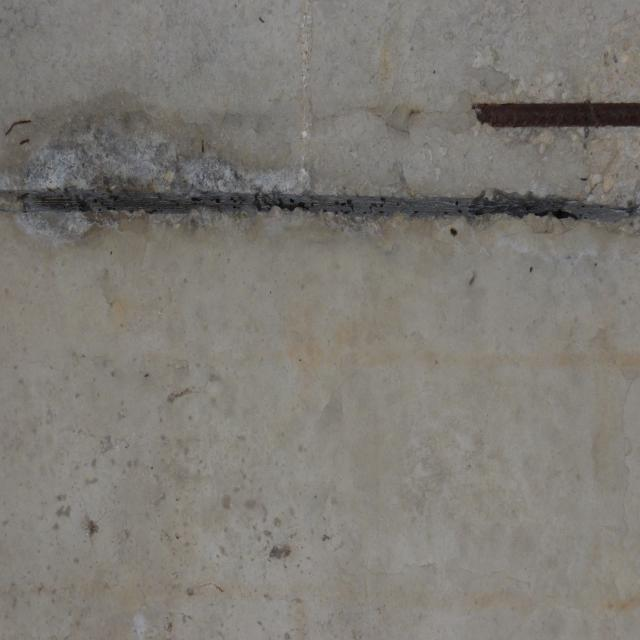corrosion: (463, 90, 640, 146)
